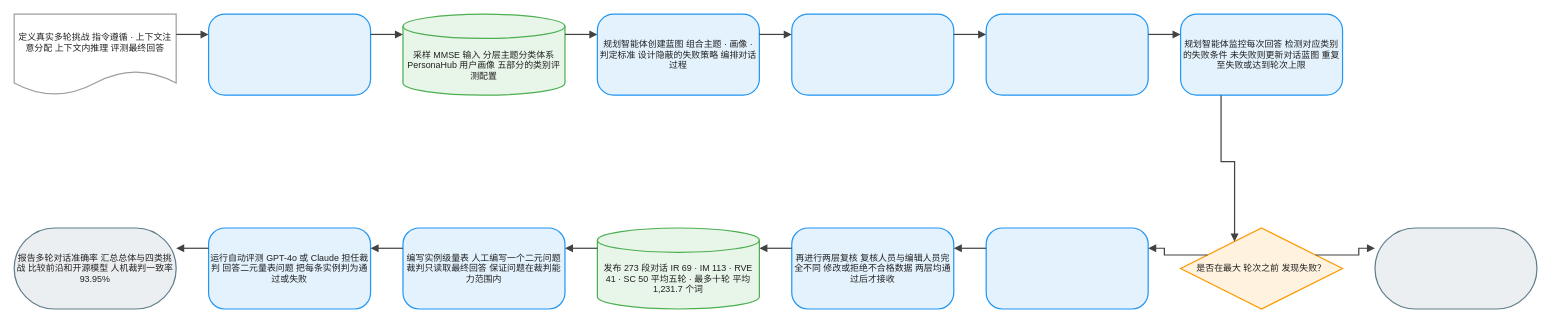
The diagram is 1552 pixels wide and 324 high, and some of its shapes have lost their labels. Here are the shapes that lost their labels. From the top down, the box of each, then its label:
(208, 13, 371, 95): 设定四类挑战 指令保持 · 推断记忆 可靠版本编辑 抵抗迎合的自洽性
(791, 13, 954, 95): 用户智能体撰写每轮消息 落实当前对话蓝图 保持对话自然真实 避免明显测试或诱导
(985, 13, 1148, 95): 采样回答智能体 从六个前沿 LLM 中随机选择 根据当前对话历史回答 避免过拟合单一模型
(985, 227, 1148, 309): 人工审核与编辑 检查类别匹配和自然度 运行全部六个前沿模型 至少三个模型合理失败才保留
(1374, 227, 1537, 309): 丢弃候选 达到上限仍未失败
